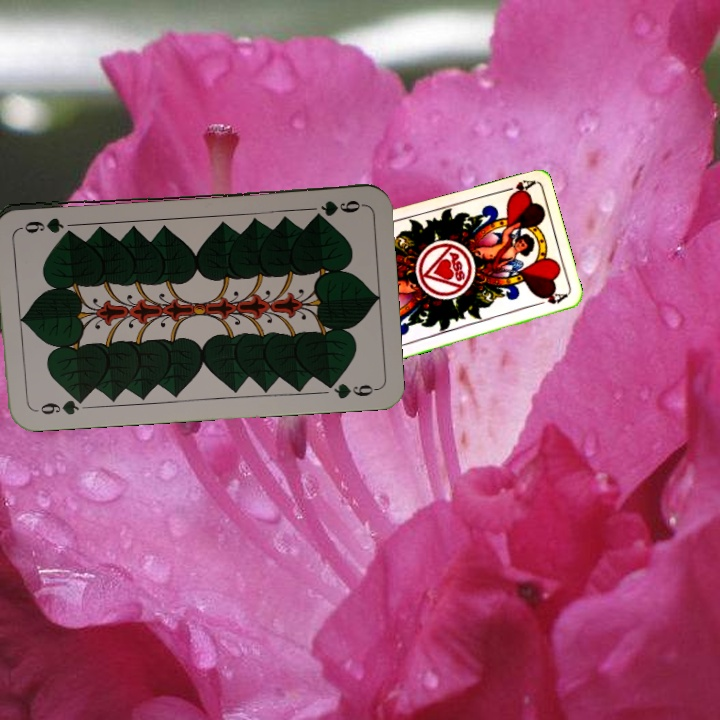G9: (29, 393, 88, 418), (316, 196, 367, 218)
HA: (495, 175, 536, 198)
